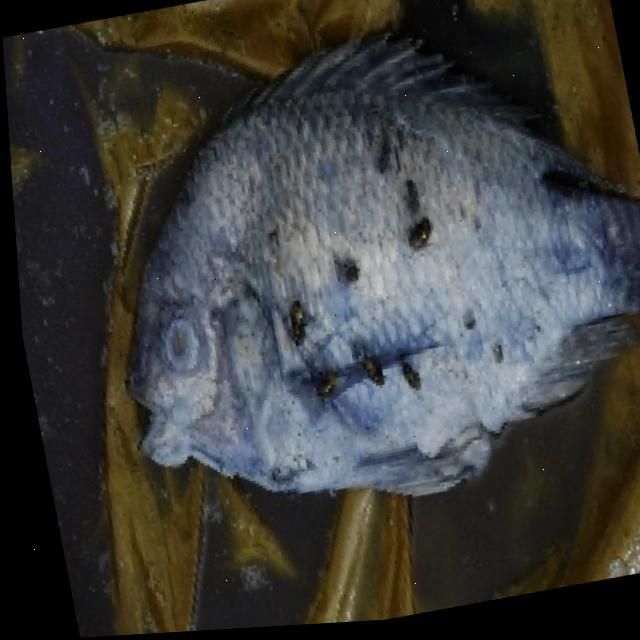Non-Fresh: (36, 21, 640, 564), (133, 287, 238, 398)
